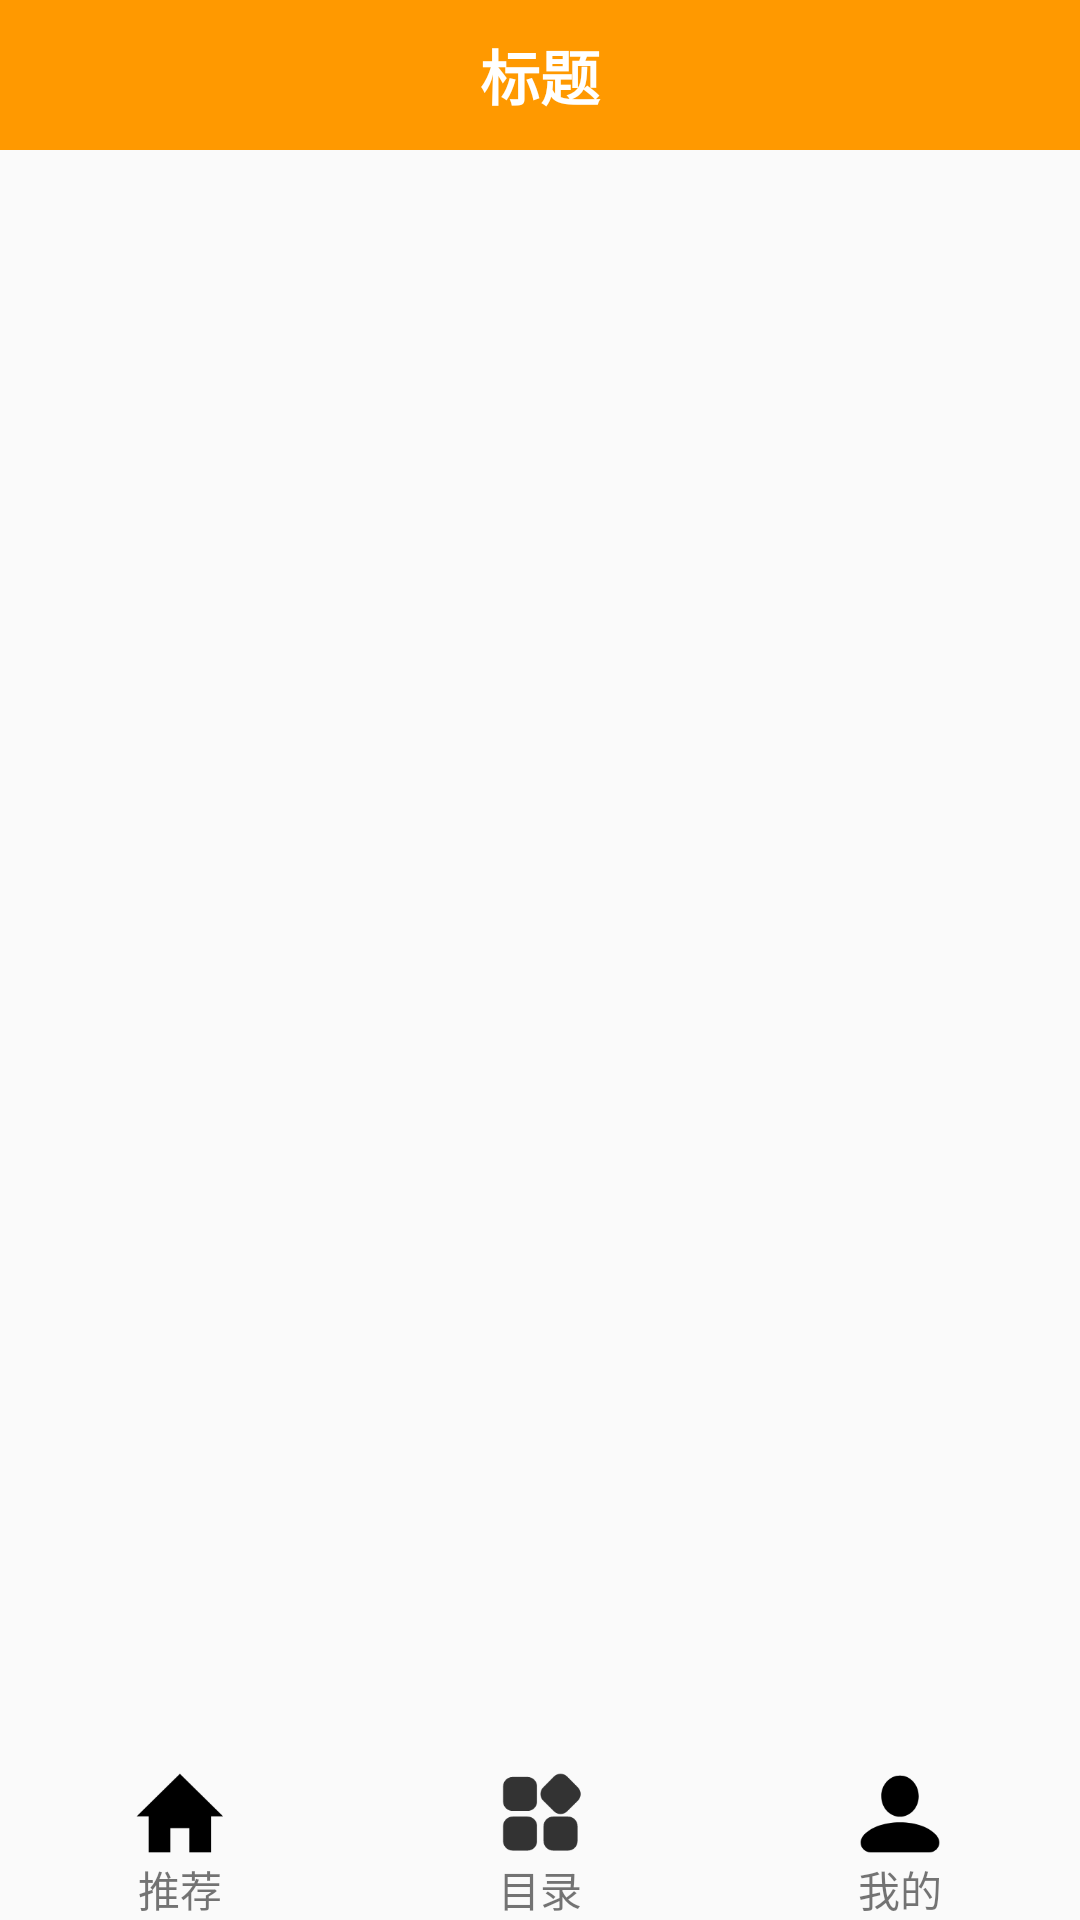

Icons on this 1080x1920 Android screen, each with the point to tap as (x=x, y=y):
main: (x=180, y=1813)
